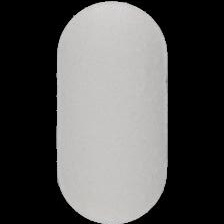51079-942: (0, 0, 224, 224)
